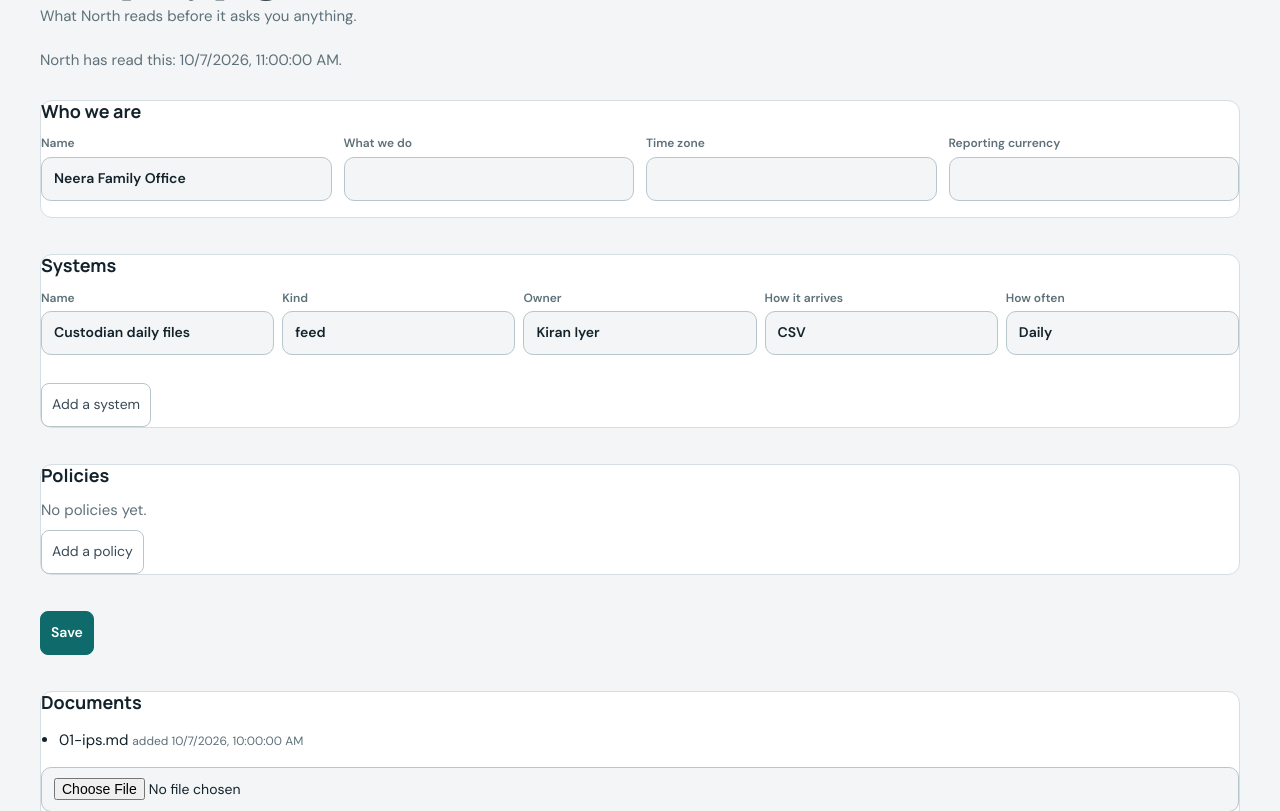
Test case: the decision maker adds a policy and saves
Expected: the field showing "Neera Family Office" below "What we do" is shown, [41,157,332,201]
Expected: the text "North has read this: 10/7/2026, 11:00:00 AM." is shown, [40,50,342,70]
Click the button "Add a policy".
click(92, 552)  # box [41,530,144,574]
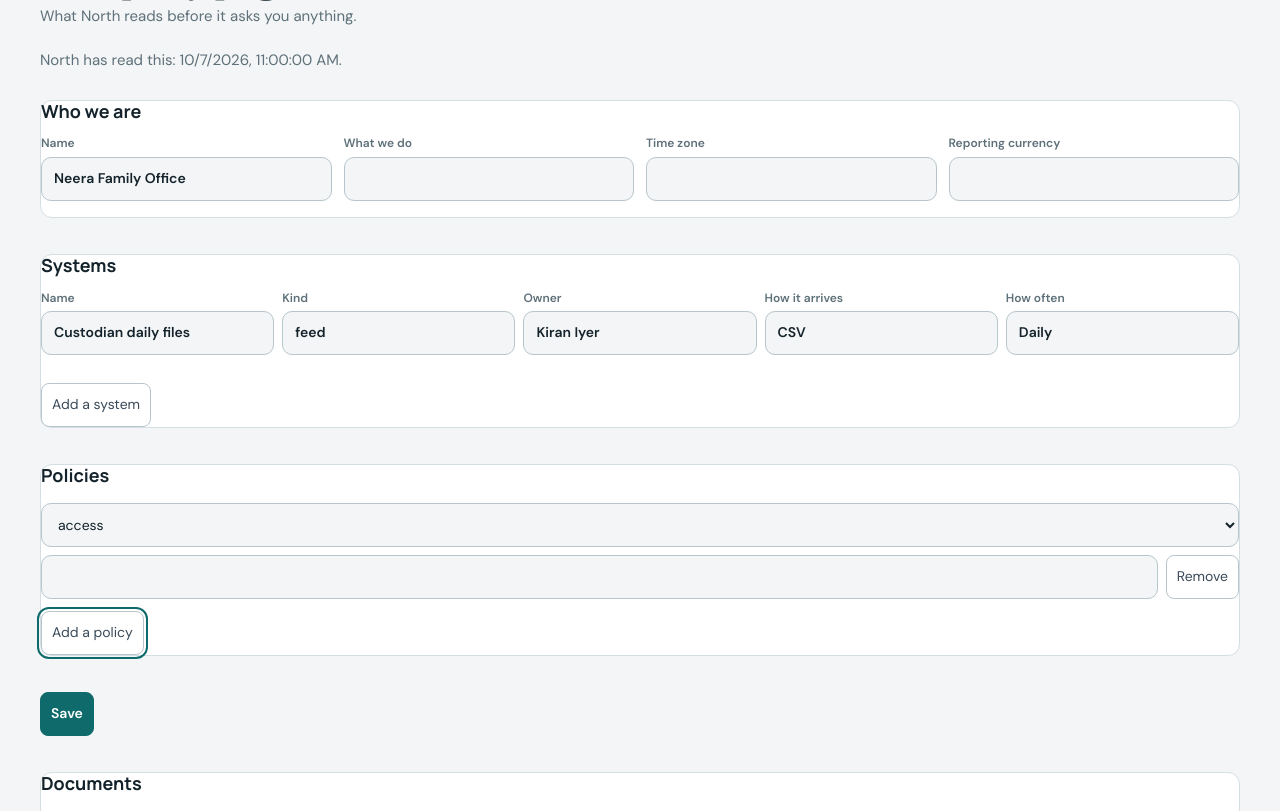
Type "Keep statements seven years." into the field named "Policy 1".
click(599, 577); type("Keep statements seven years.")  # box [41,555,1158,599]
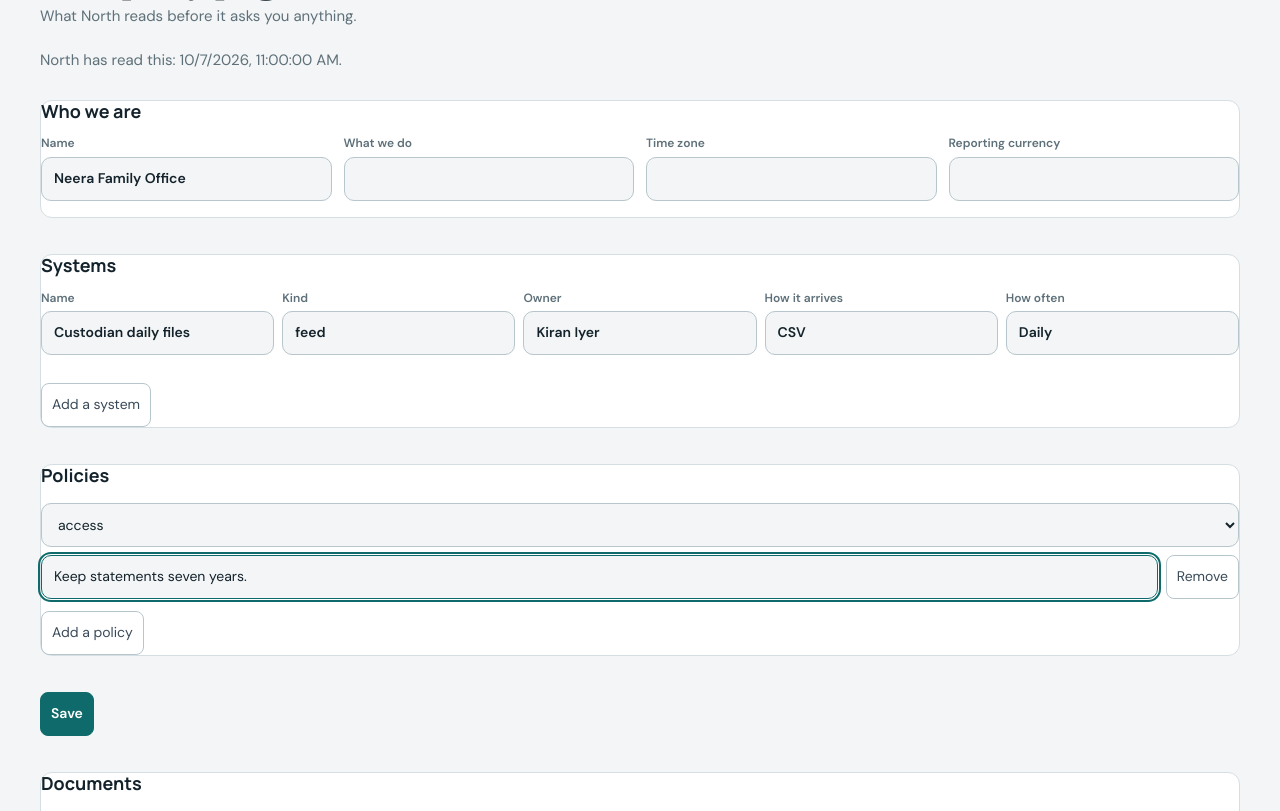
Click the button "Save".
click(67, 714)  # box [40,692,94,736]
(page scrolled)
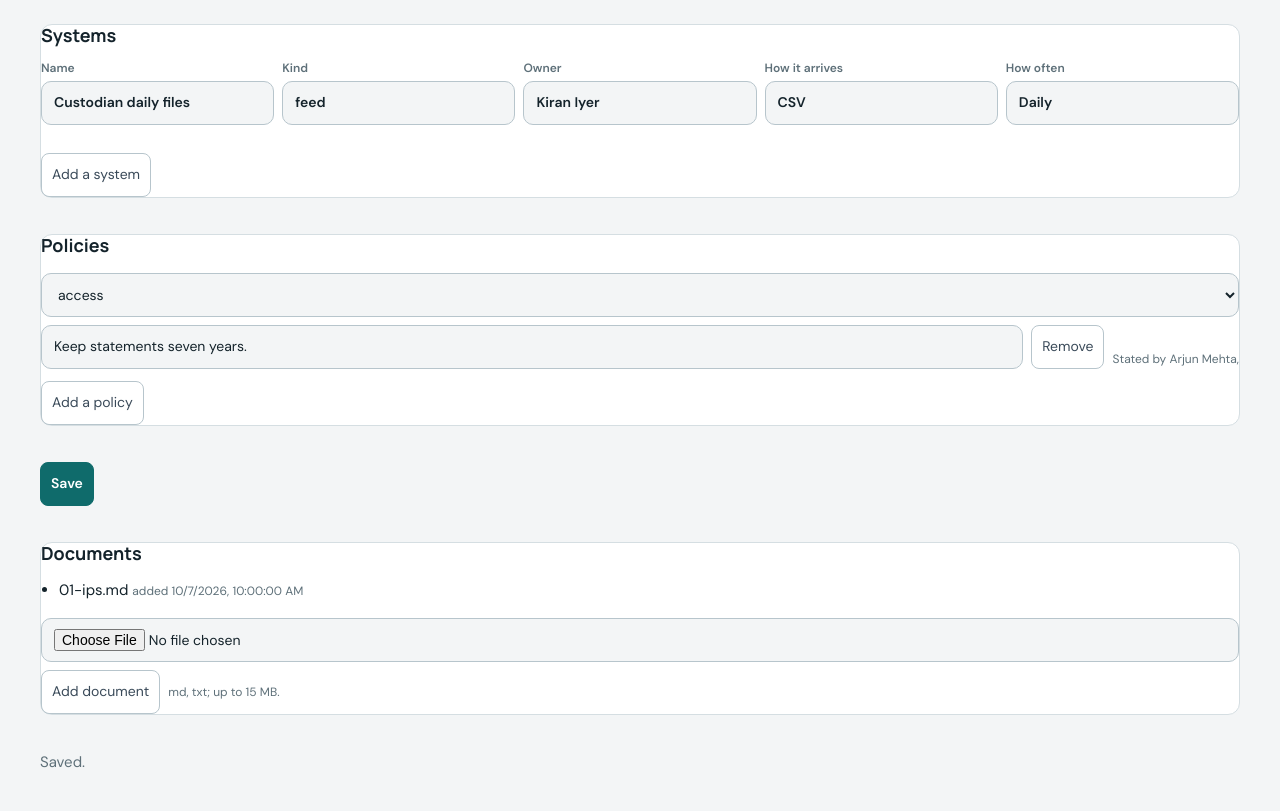
Expected: the text "Saved." is shown, [40,752,85,772]
